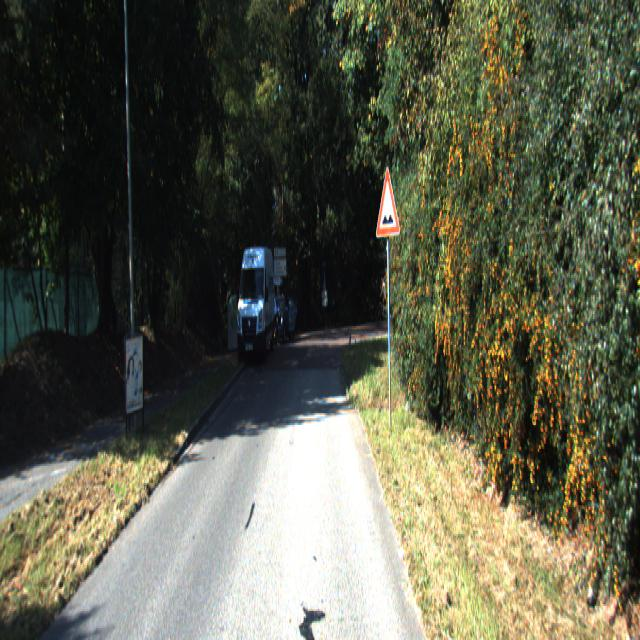Car: (235, 245, 275, 364), (262, 299, 292, 348)
